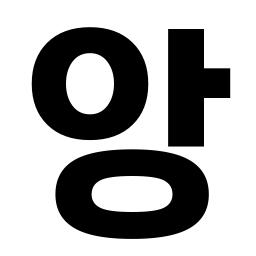Gaji: (154, 56, 220, 111)
